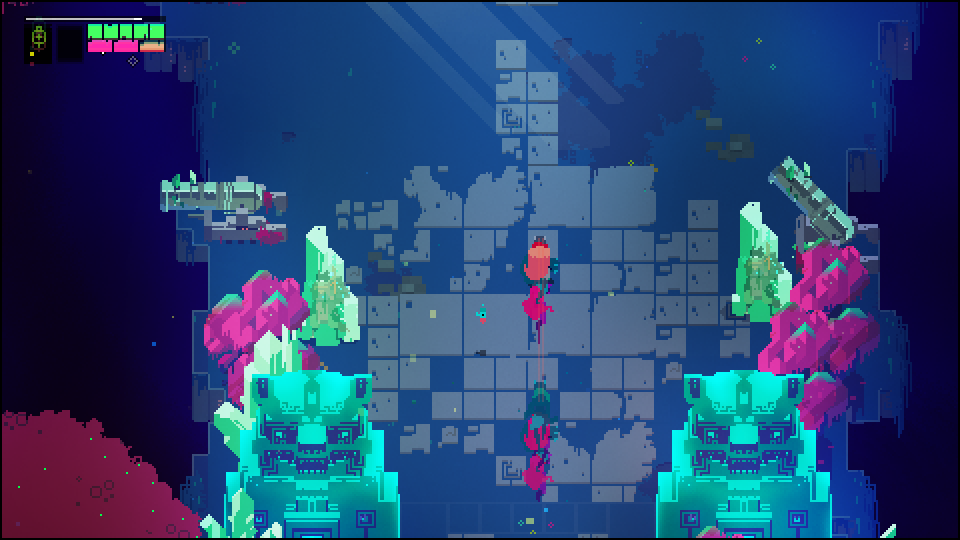player: (522, 232, 554, 294)
